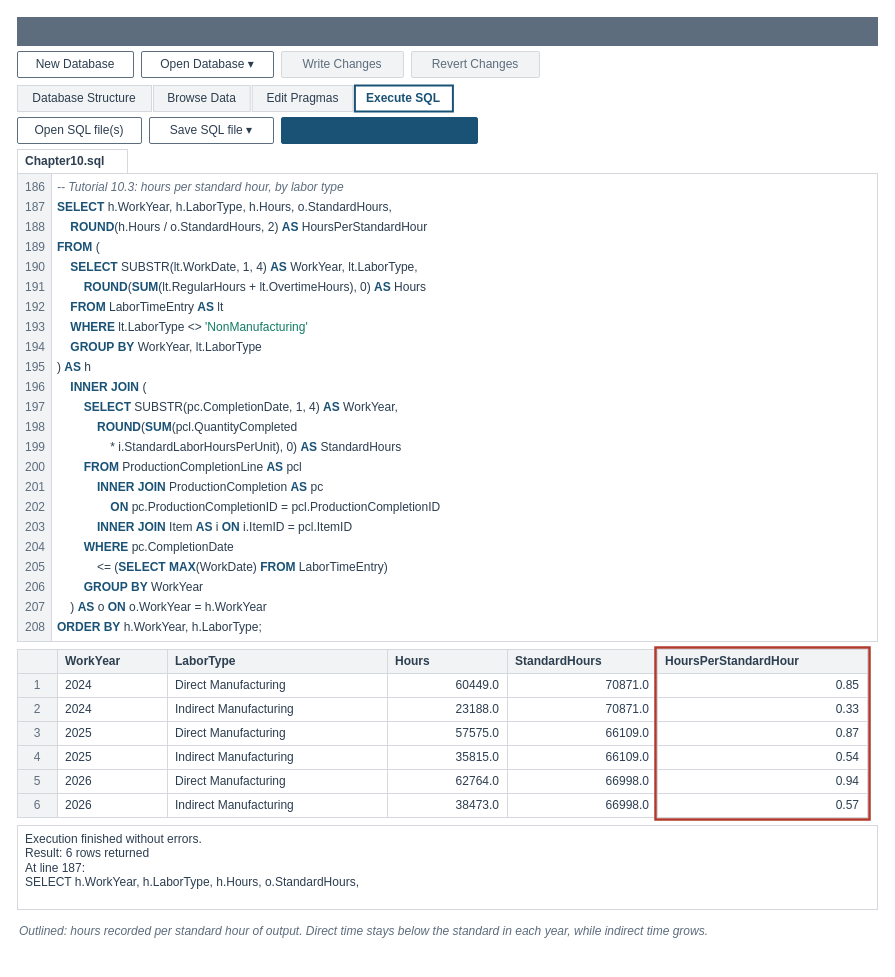
This 895x977 diagram has some shape labels left out. Each missing label, with the centre of its shape:
DB Browser for SQLite - C:\Users\you\Documents\CharlesRiver_Work.sqlite: [447,31]
▶ Execute all/selected SQL: [379,130]
